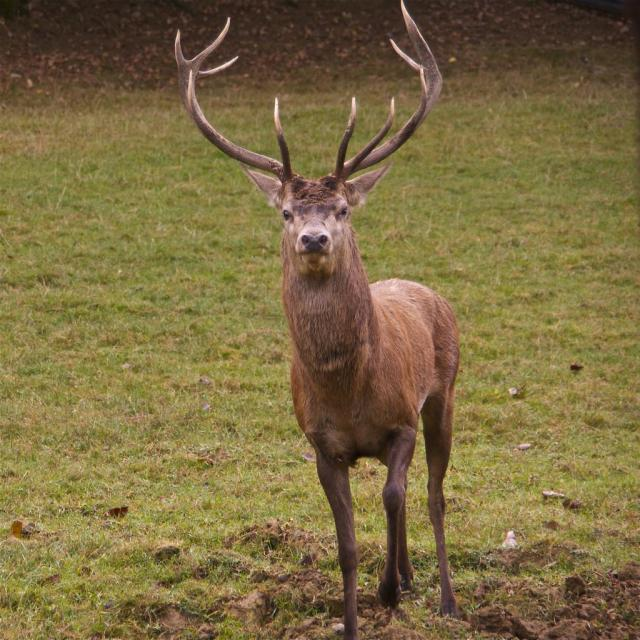Deer: (173, 0, 465, 639)
